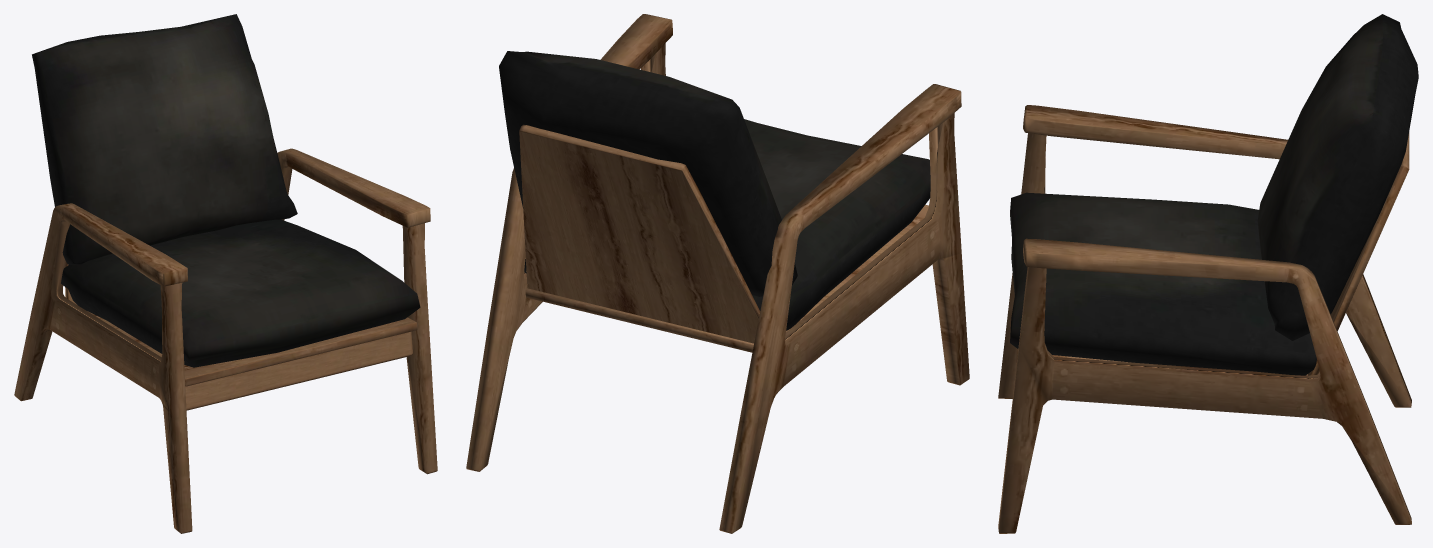
3 views of the same model, side by side, from view 1: azimuth 30°, elevation 25°; view 2: azimuth 150°, elevation 25°; view 3: azimuth 270°, elevation 25° (orthographic). The views are drawn at different scales.
Visible parts, largest first — view 1: modern_arm_chair_01; view 2: modern_arm_chair_01; view 3: modern_arm_chair_01.
Part boxes in pixels (<box>): modern_arm_chair_01: <box>14,14,437,533</box>; modern_arm_chair_01: <box>466,14,969,533</box>; modern_arm_chair_01: <box>998,14,1418,533</box>.
Bounding box in the file's own units: 0.82 × 1.02 × 0.9864.
2 materials, 2 textured.
